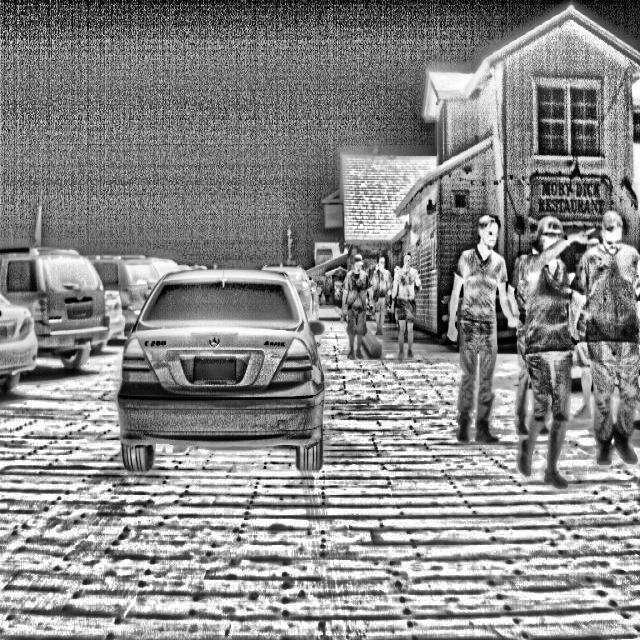car: (113, 225, 330, 500), (7, 213, 104, 380)
person and bycle: (436, 212, 522, 468), (521, 213, 583, 485), (588, 210, 637, 485), (335, 249, 378, 367), (392, 245, 429, 376), (370, 252, 399, 349)
